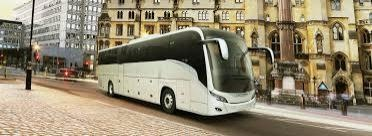bus: (96, 28, 258, 116)
